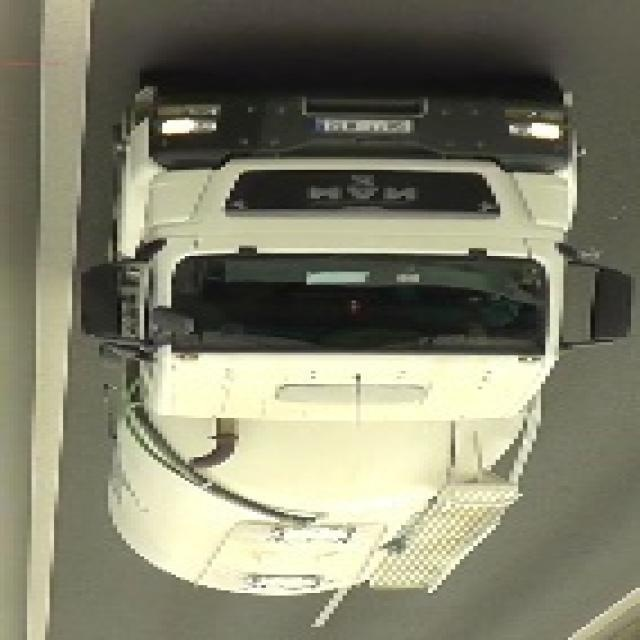Truck: (86, 55, 640, 609)
